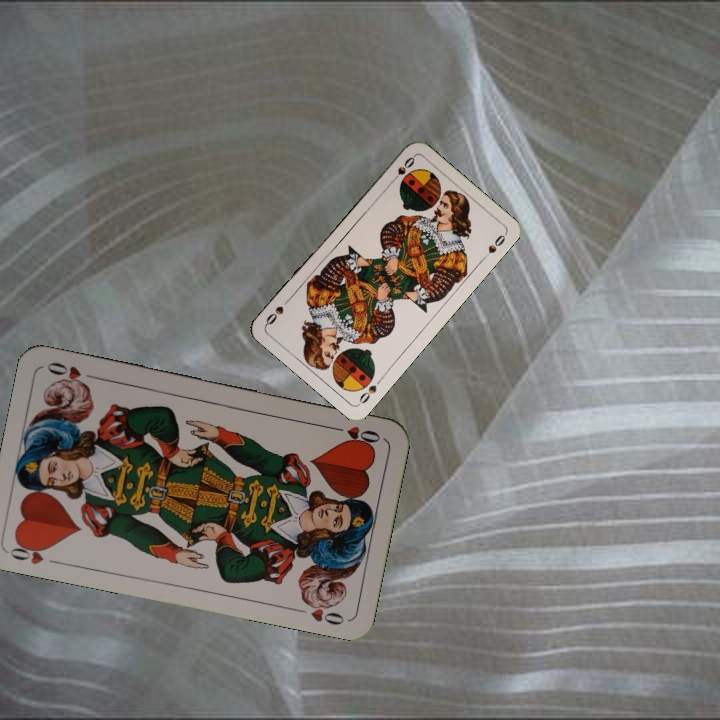HO: (5, 537, 63, 567), (326, 421, 383, 446)
SO: (386, 152, 417, 186), (355, 381, 379, 407)
